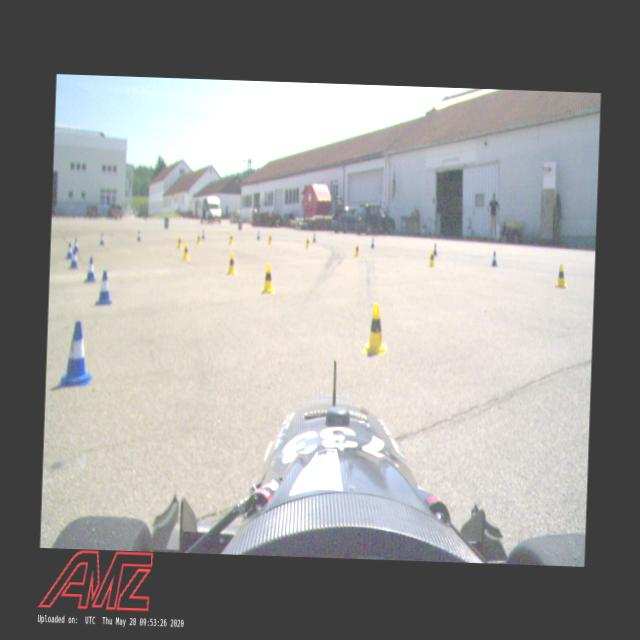blue_cone: (61, 321, 94, 386), (94, 270, 113, 306), (84, 255, 96, 283), (70, 248, 79, 269), (491, 248, 499, 266), (97, 230, 105, 246), (66, 242, 72, 259), (72, 238, 78, 252), (369, 237, 375, 249), (432, 242, 437, 255), (136, 229, 141, 240), (311, 232, 316, 242), (256, 228, 260, 240), (201, 228, 205, 240)
yellow_cone: (363, 302, 388, 356), (261, 262, 275, 292), (554, 262, 567, 288), (225, 250, 237, 275), (426, 249, 436, 267), (182, 242, 190, 260), (352, 240, 360, 257), (175, 234, 182, 248), (266, 230, 272, 243), (228, 231, 233, 245), (304, 236, 310, 247), (196, 232, 200, 244)
